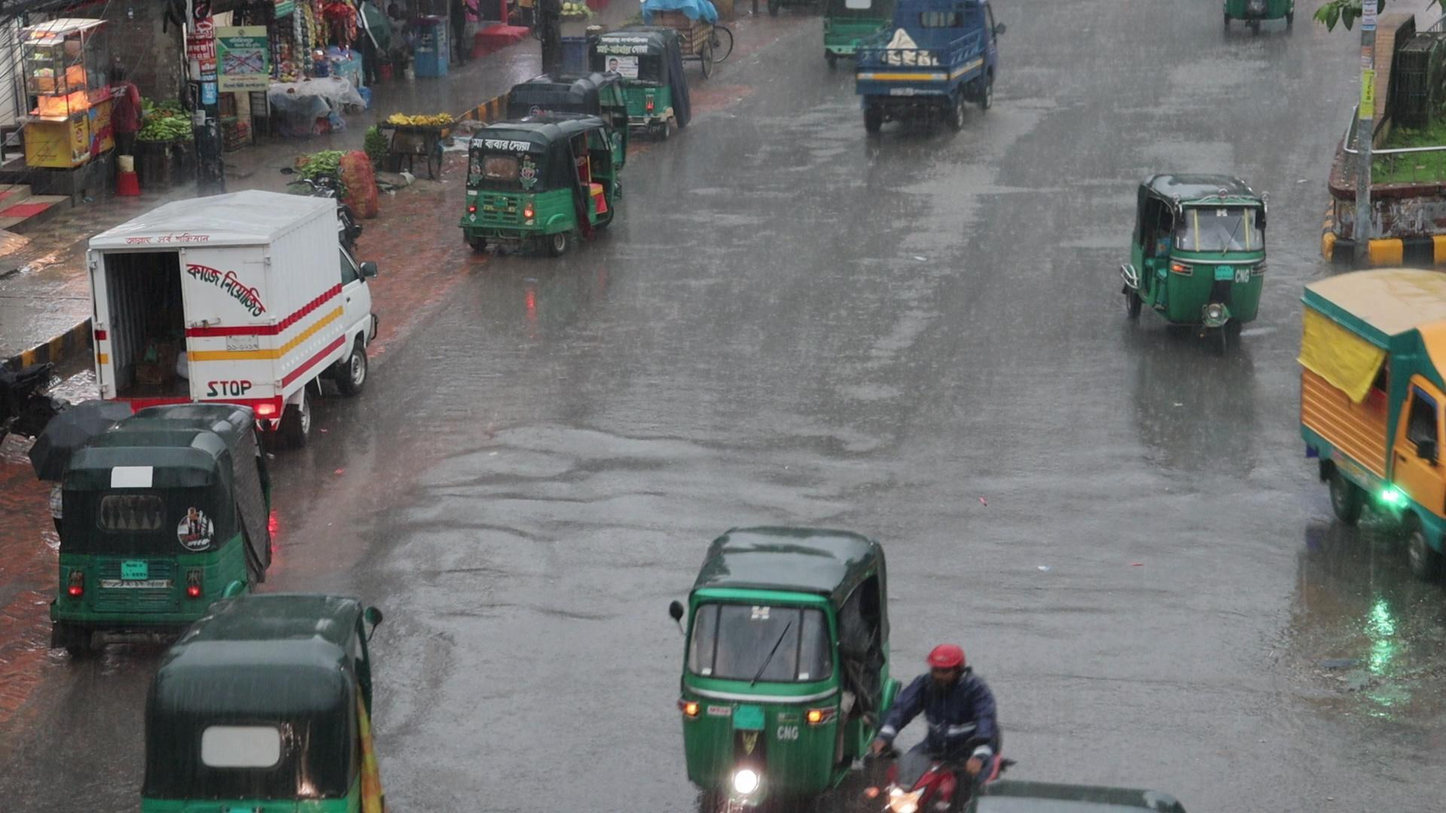Bike: (871, 633, 999, 813)
Truck: (853, 2, 1001, 132)
